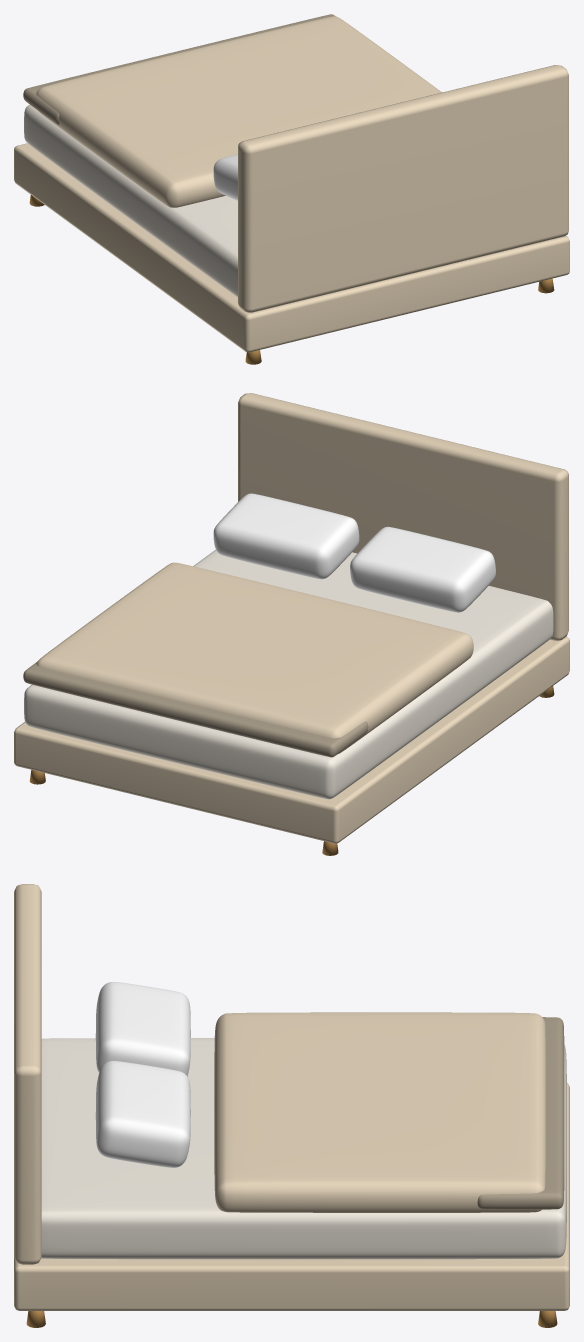
The model's file is bed.glb.
3 renders of one model, top to bottom at view 1: azimuth 30°, elevation 25°; view 2: azimuth 150°, elevation 25°; view 3: azimuth 270°, elevation 25°, orthographic. The views are drawn at different scales.
Visible parts, largest first — view 1: leg; view 2: leg; view 3: leg.
Boxes of the visible parts, x1=… form: leg: x1=14, y1=14, x2=569, y2=364; leg: x1=14, y1=393, x2=569, y2=855; leg: x1=14, y1=884, x2=569, y2=1327.
Size of the model in its own units: 1.6 by 1.05 by 2.
